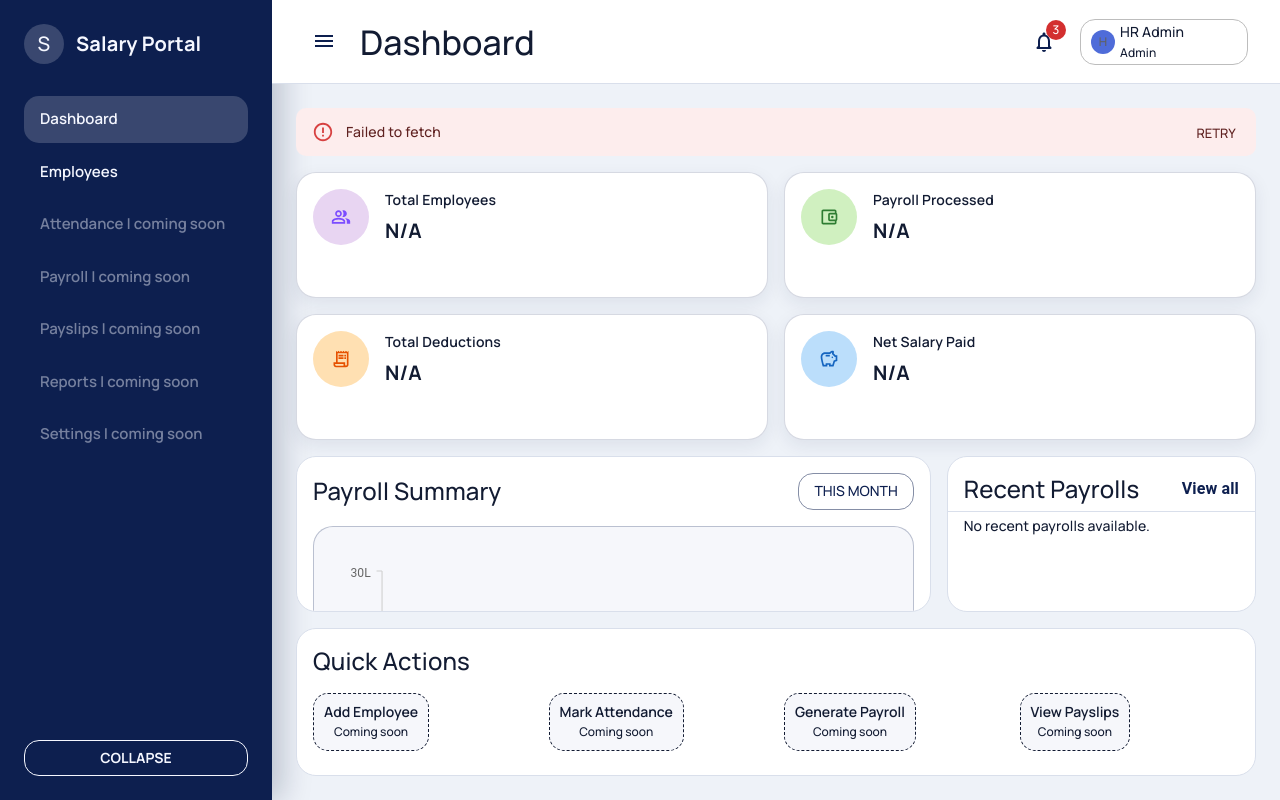
Test: HomePage - Dashboard Data Integration › Error State › retries fetch when retry button is clicked
Click the button labelled "Retry" at (1216, 133), box 1184,118 -> 1248,149
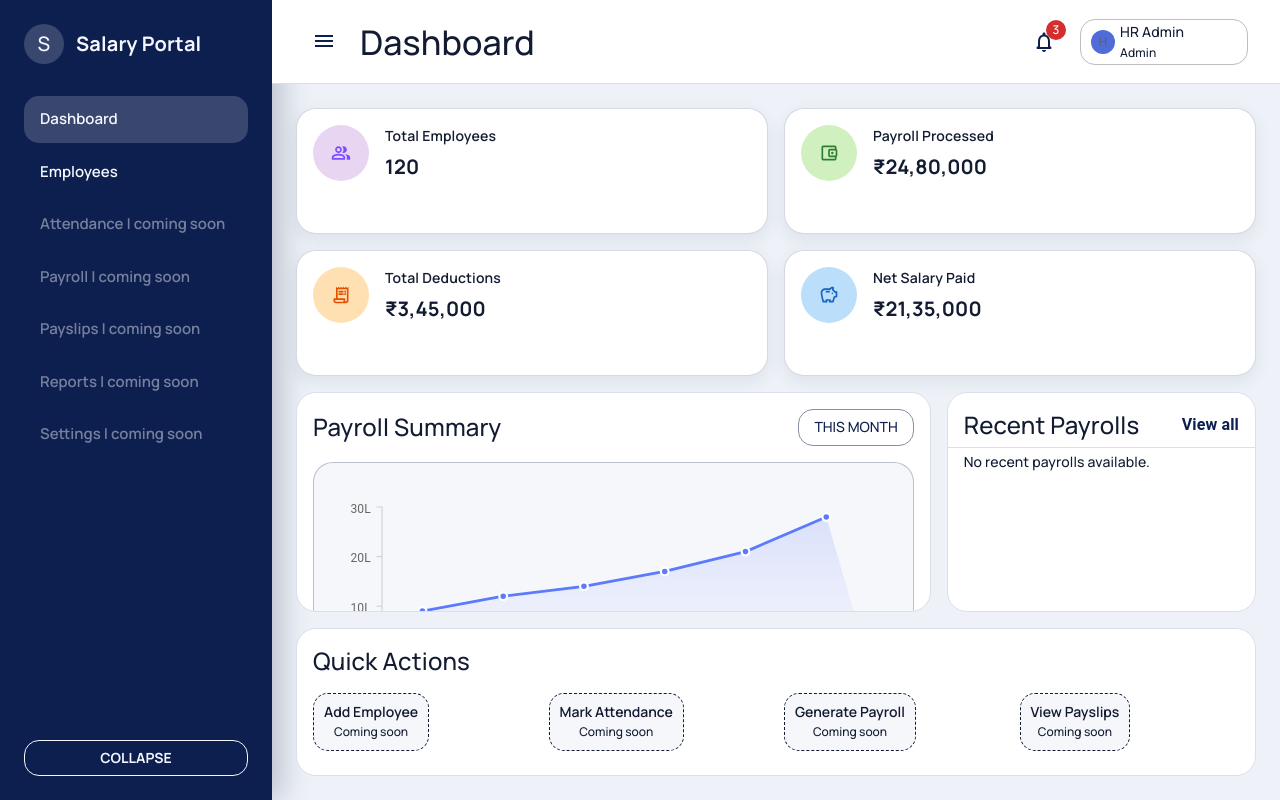
Check: the heading "120" is shown, box 385,153 -> 419,180
